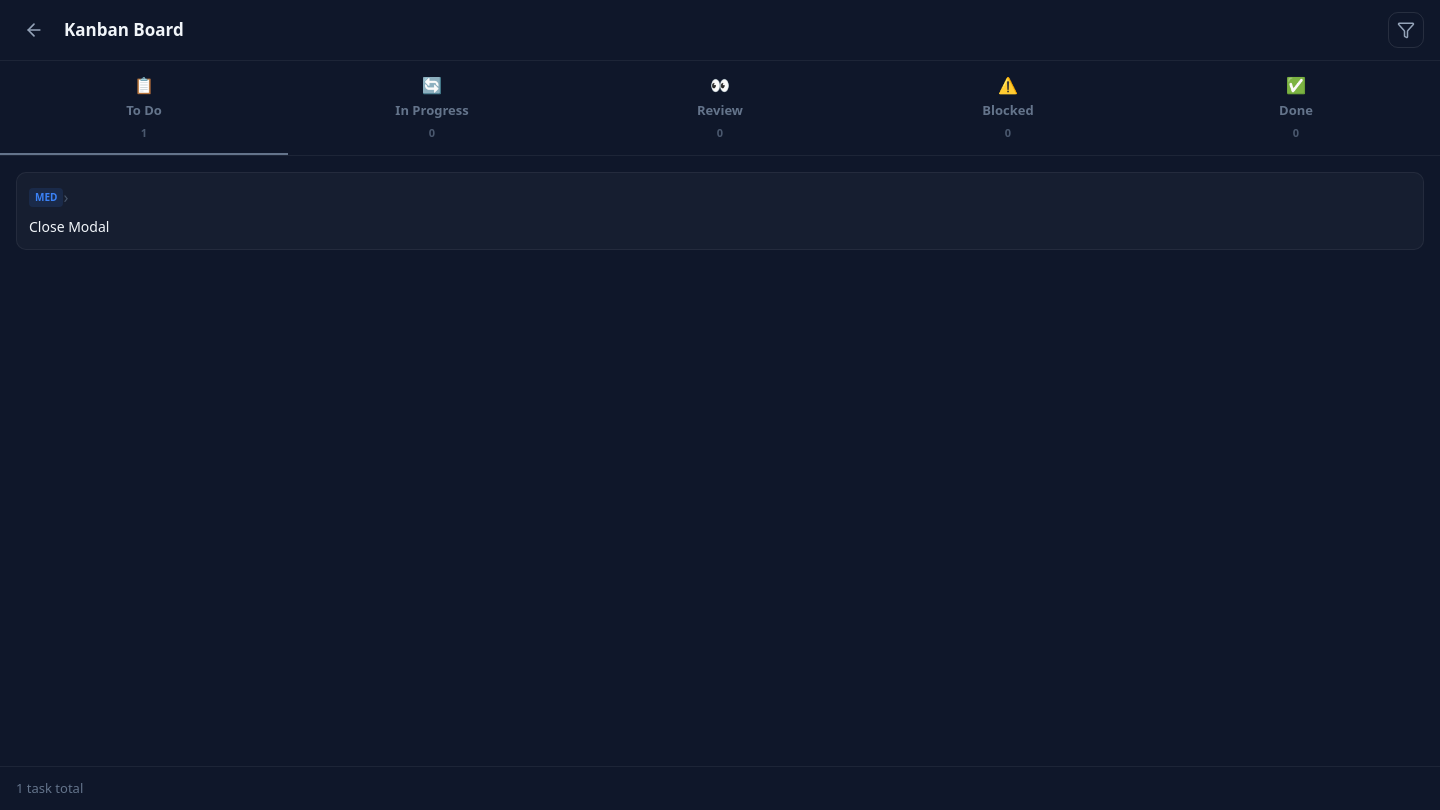
it: MobileKanbanPanel › task detail modal › closes modal when × button is clicked
The width and height of the screenshot is (1440, 810).
Click the button "MED › Close Modal". click: (46, 197)
box: [16,172,1424,250]
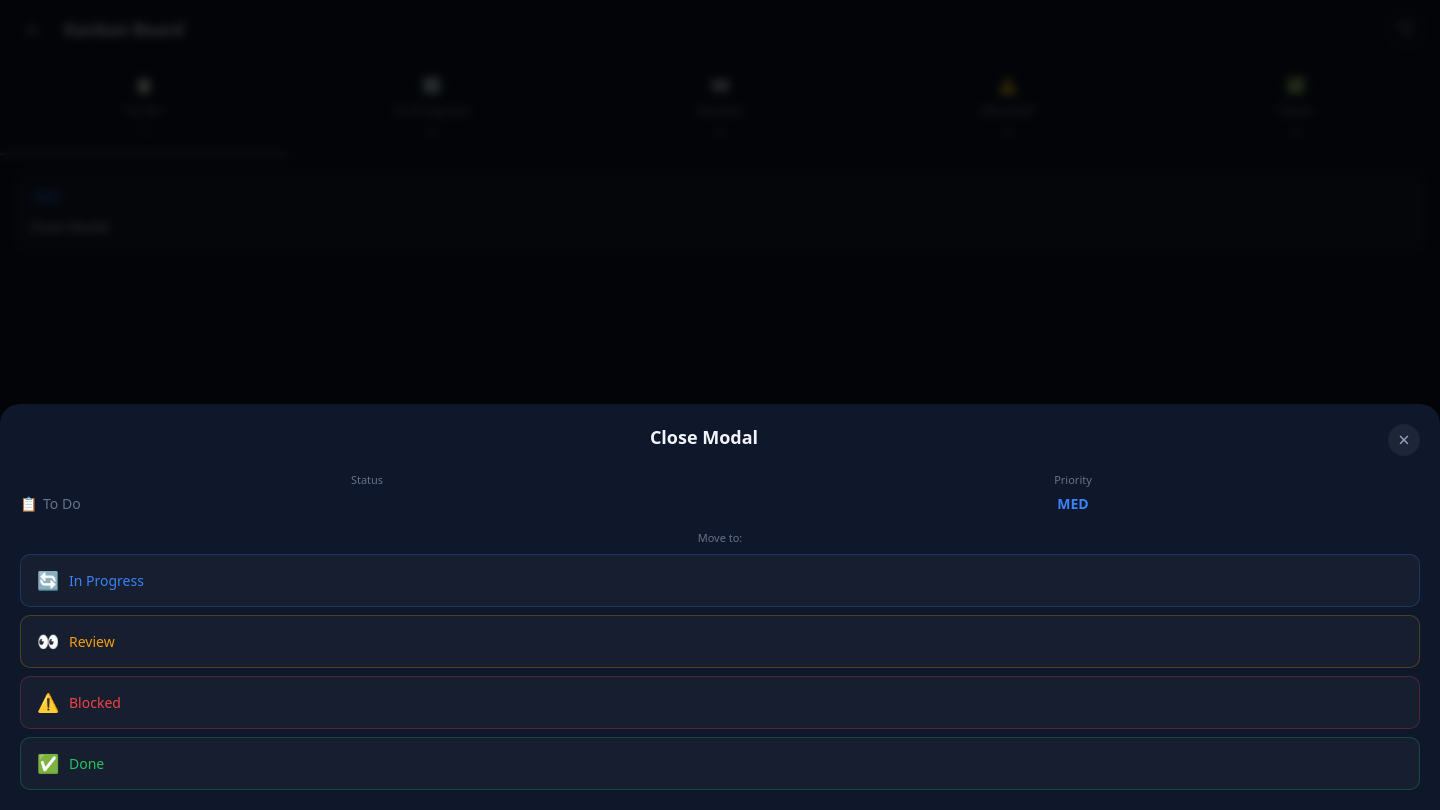
Result: the button "×" is shown
Click the button "×". click: (1404, 440)
box: [1388,424,1420,456]
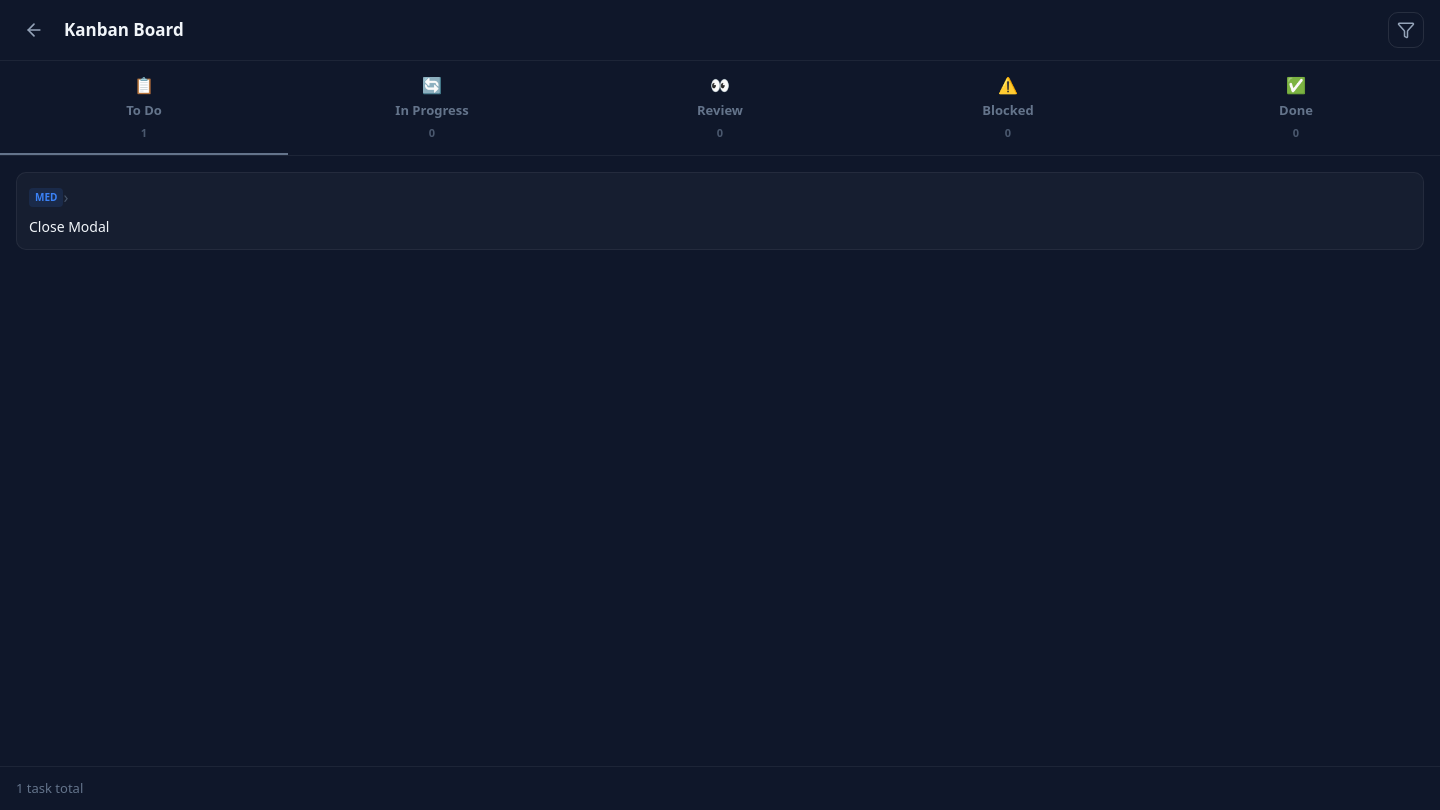
Result: the text "Close Modal" is shown once at [29,217,109,237]
